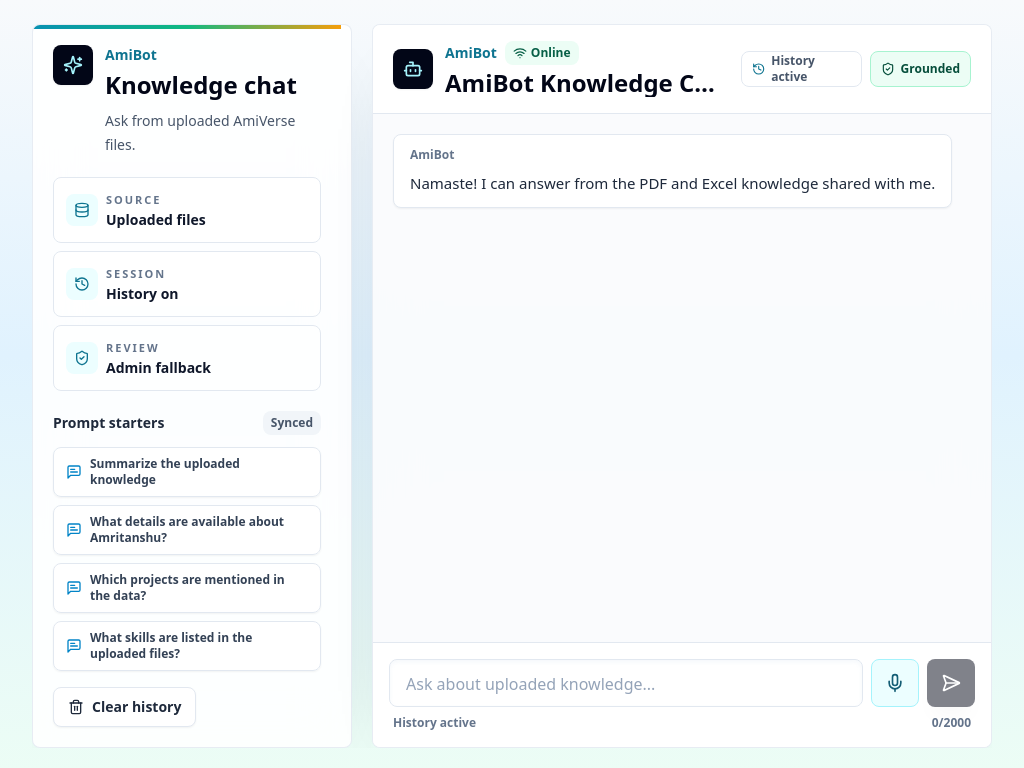
Test: logging out during history clearing immediately unlocks guest chat
Click the button with aria-label "clear amibot history".
click(125, 707)  # box x1=53 y1=687 x2=196 y2=727
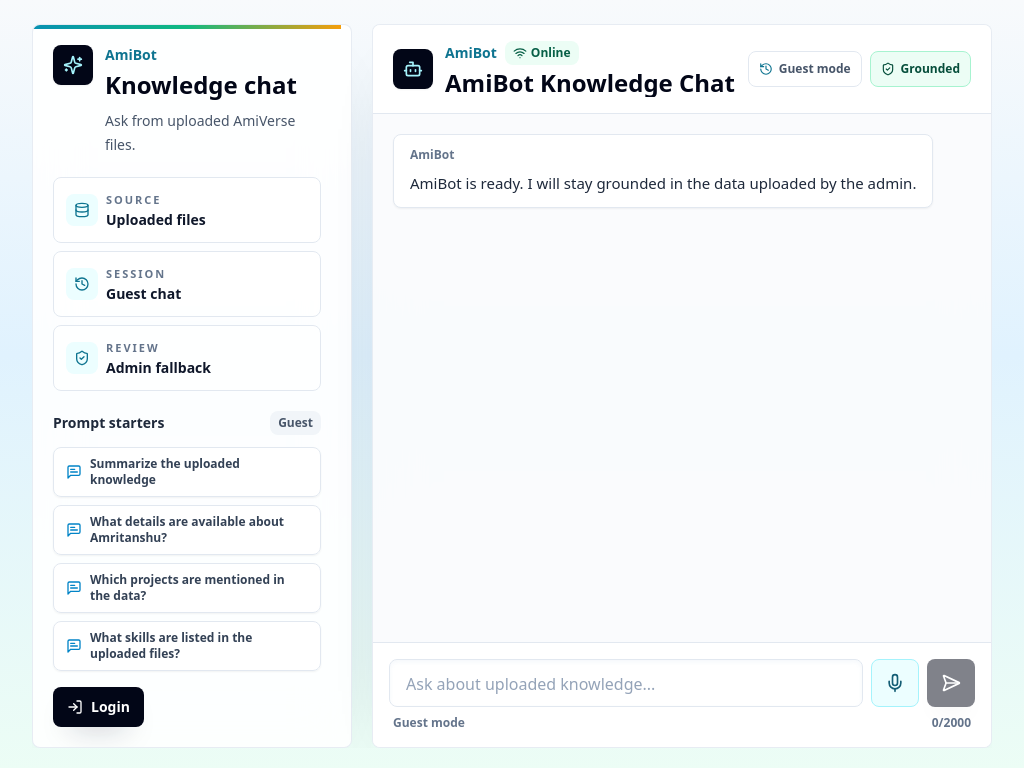
Type "When will the next project launch?" into the text box named "type your message".
click(626, 683); type("When will the next project launch?")  # box x1=389 y1=659 x2=863 y2=707
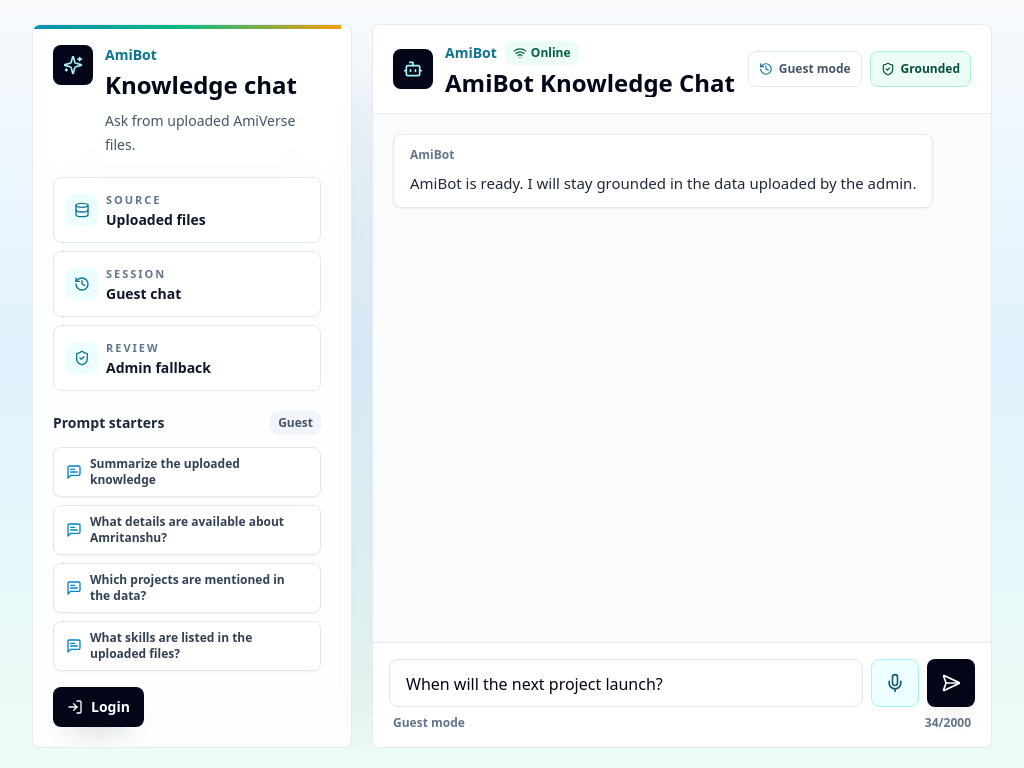
Expected: the button named "send message" is enabled
Click the button named "send message".
click(951, 683)  # box x1=927 y1=659 x2=975 y2=707
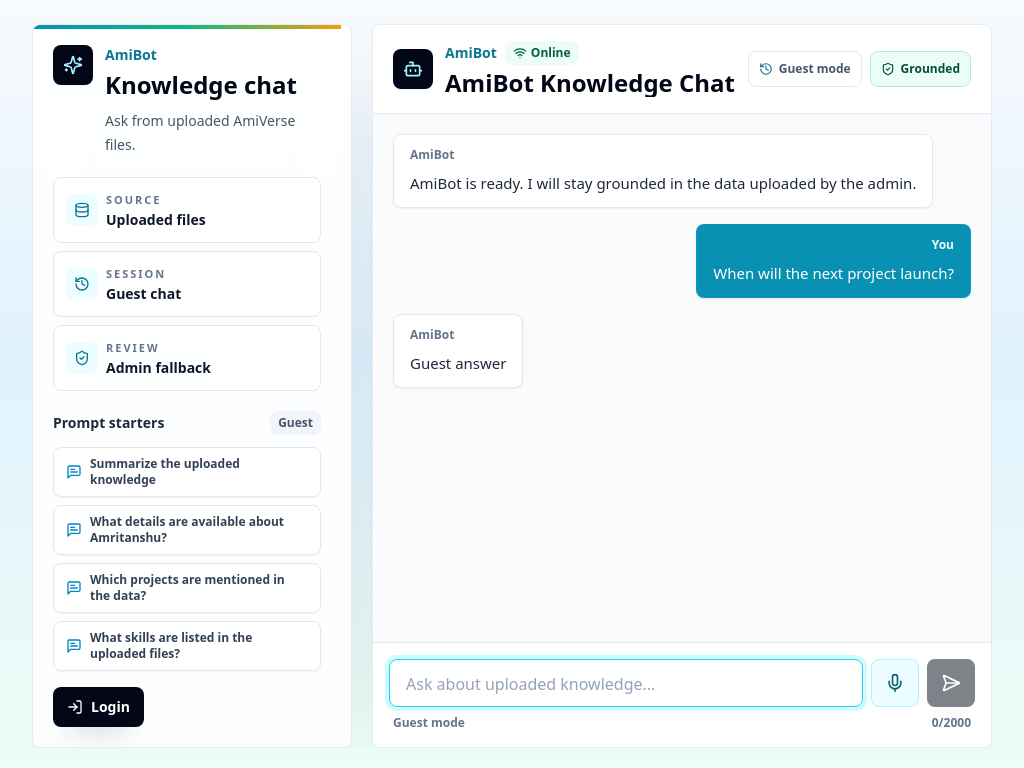
Expected: the text "Guest answer" is shown, x1=410 y1=351 x2=506 y2=375
